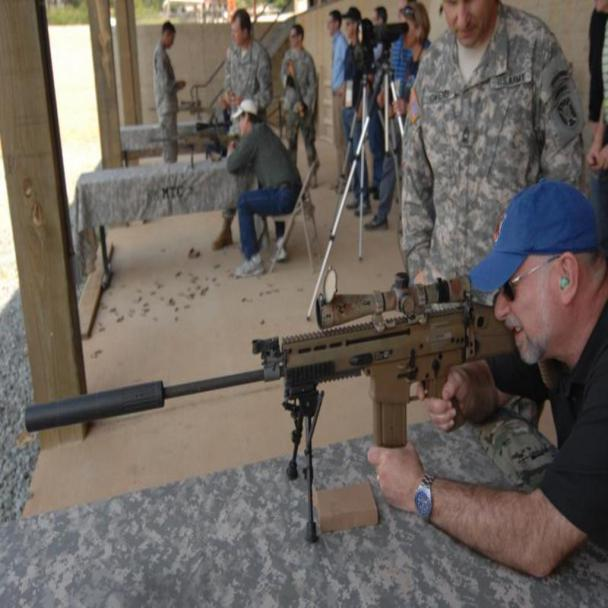Gun: (0, 262, 496, 453)
Hand: (366, 433, 491, 542), (421, 365, 519, 437)
